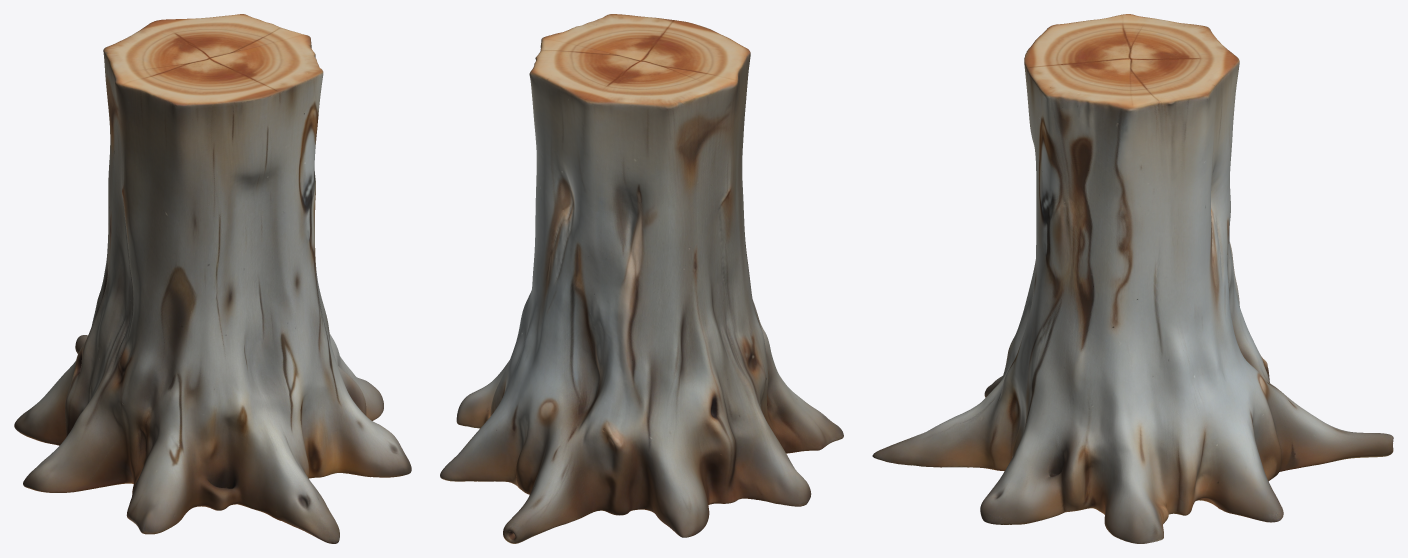
File: stump_grade_2.glb
3 renders of one model, left to right at view 1: azimuth 30°, elevation 25°; view 2: azimuth 150°, elevation 25°; view 3: azimuth 270°, elevation 25°, orthographic.
Bounding box in the file's own units: 1.58 × 1.7 × 2.
1 material, 1 textured.
